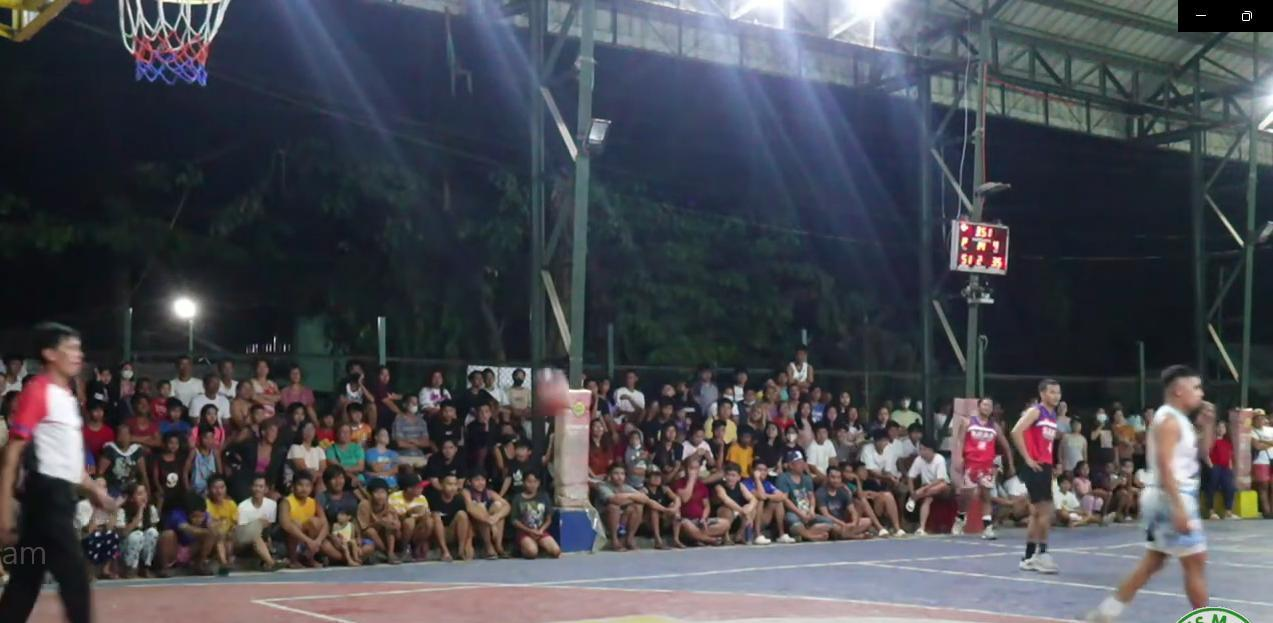ball: (536, 364, 574, 420)
human: (1, 293, 121, 623), (1093, 362, 1236, 623), (990, 363, 1088, 580), (940, 388, 1013, 540)
rim: (114, 0, 237, 92)
